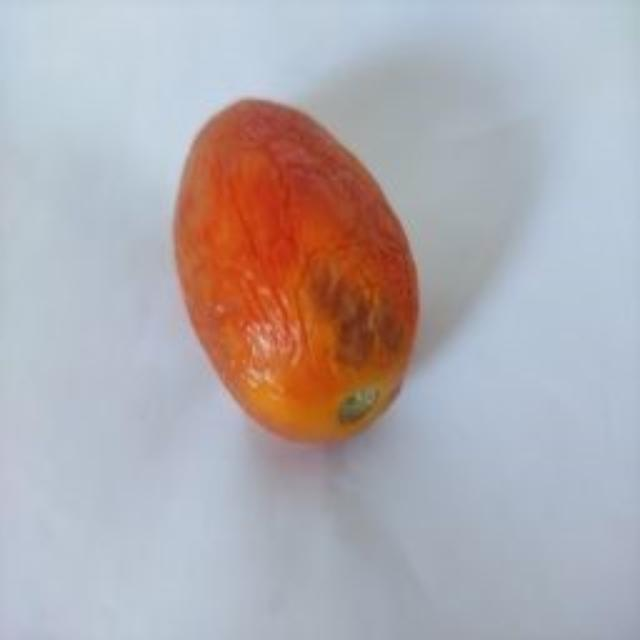defect: (173, 94, 422, 451)
